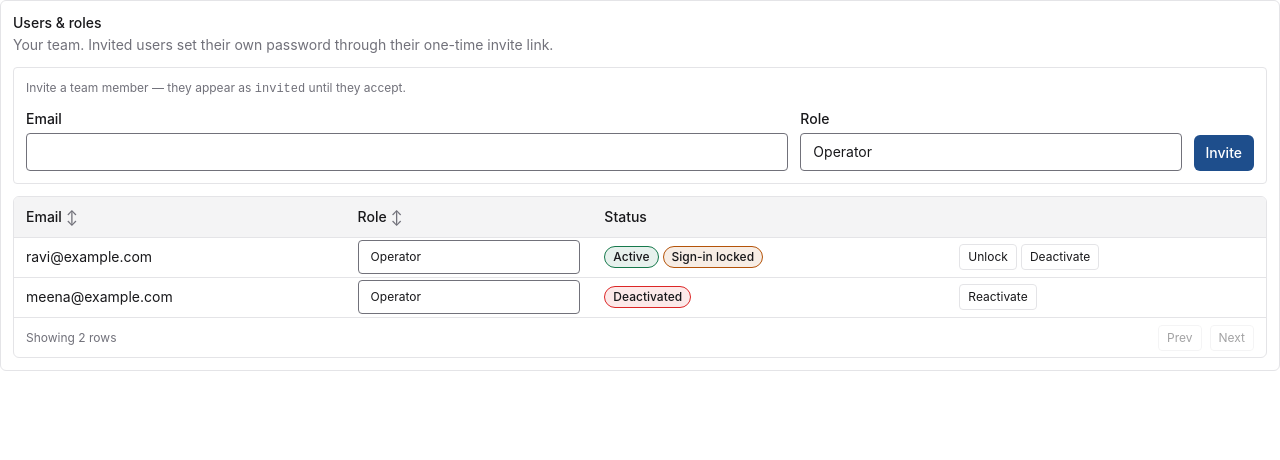
it: Team card — offboarding and unlock (story 6-1a) › Unlock clears the sign-in lock after a confirmation
What coordinates should you click on to do the following:
click the button "Unlock"
I would click on:
 (988, 257)
Its box is x1=959 y1=244 x2=1017 y2=270.
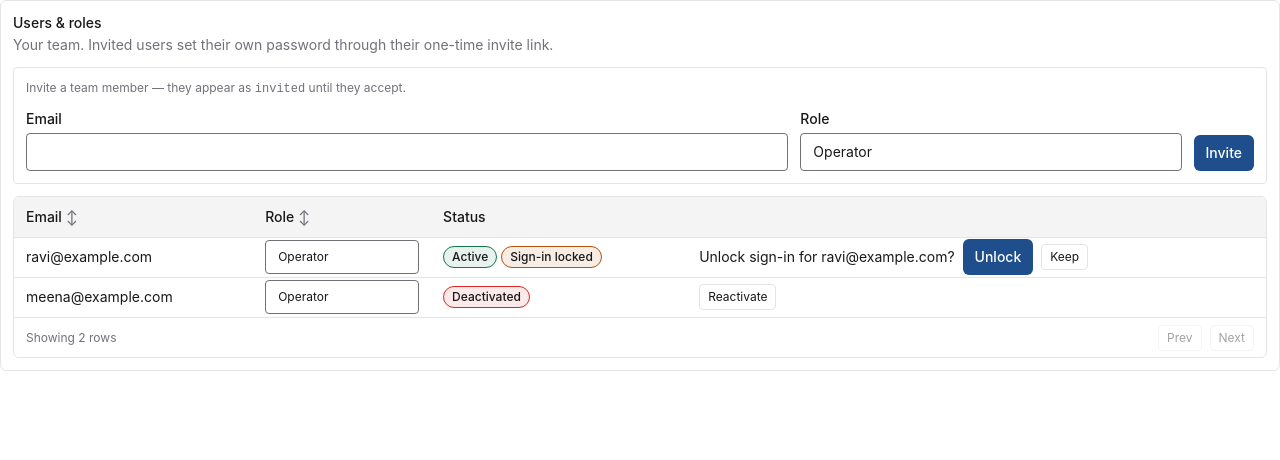
What coordinates should you click on to do the following:
click the button "Unlock"
I would click on:
 (998, 257)
Its box is x1=963 y1=239 x2=1033 y2=275.
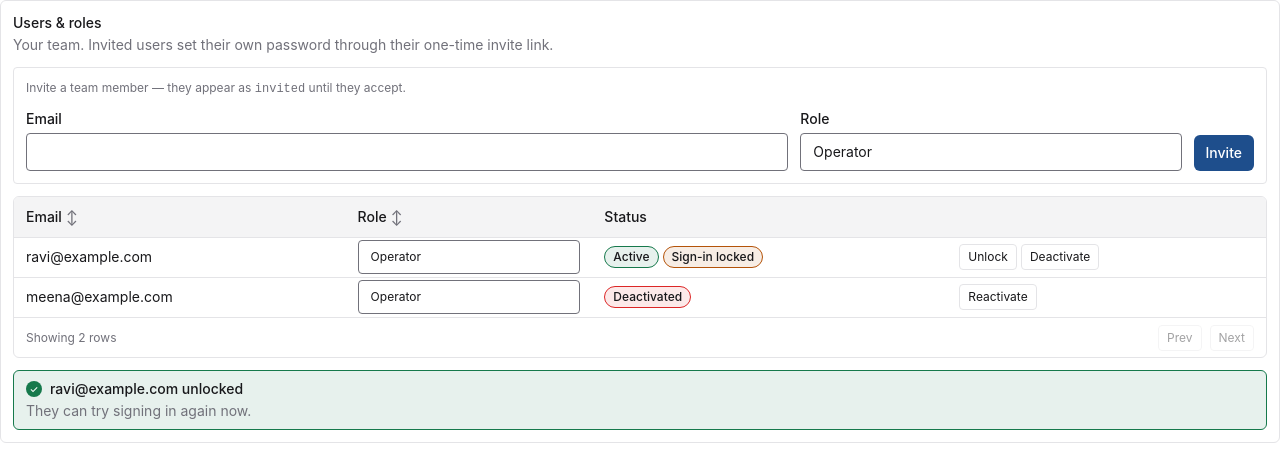
Check: the text "ravi@example.com unlocked" is shown, box x1=50 y1=380 x2=243 y2=397
